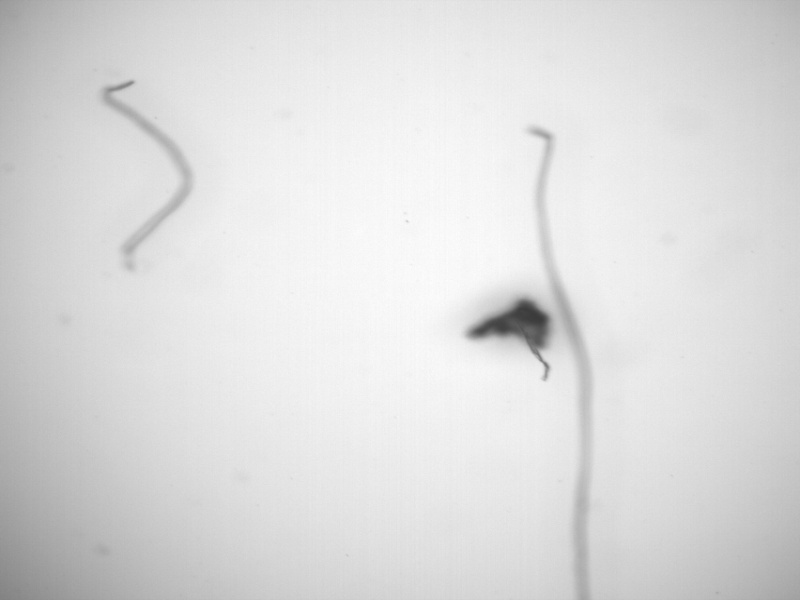fiber: (521, 124, 603, 600), (98, 77, 197, 270)
